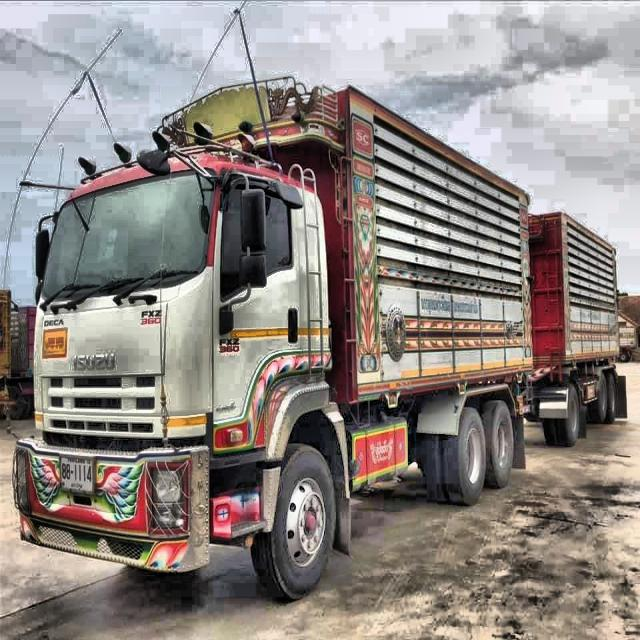trailer: (12, 76, 623, 594)
